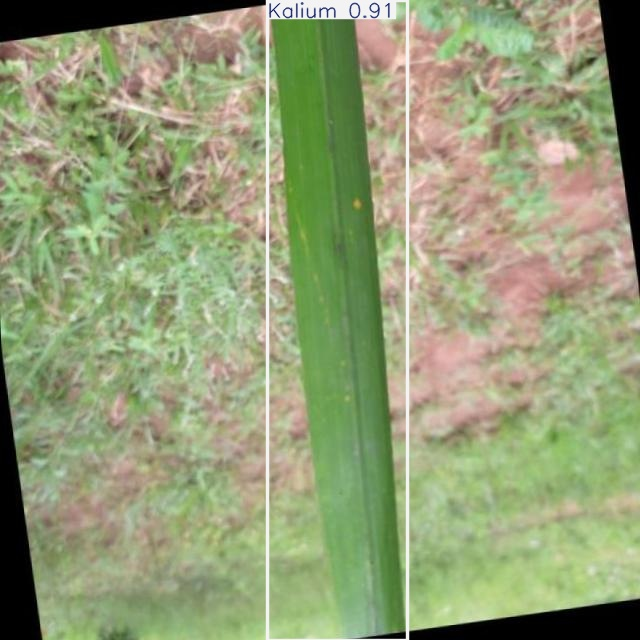Kalium: (268, 0, 408, 640)
